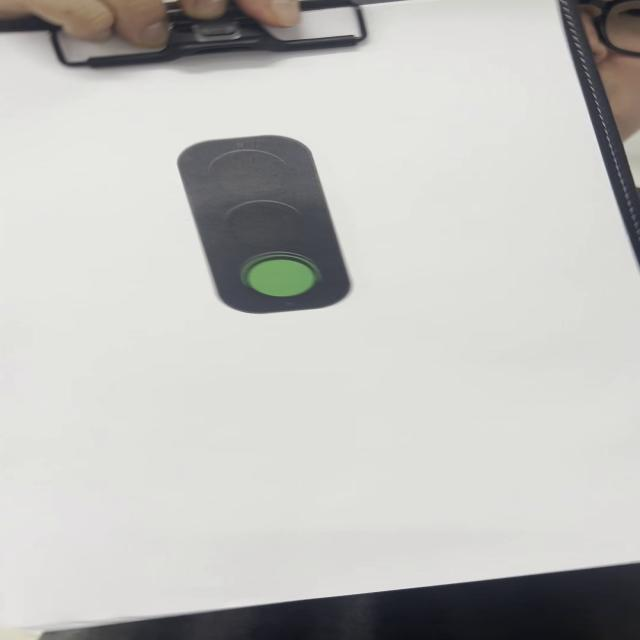green: (174, 136, 349, 314)
